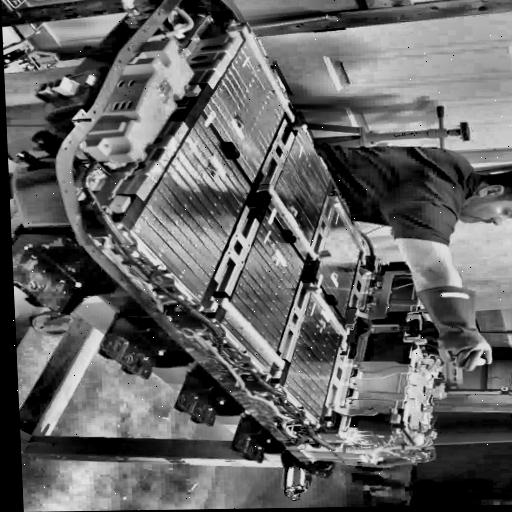battery_module: (127, 115, 249, 303), (220, 209, 304, 372), (204, 33, 288, 184), (264, 126, 327, 261), (283, 285, 344, 420), (317, 199, 364, 318)
busbar: (222, 24, 307, 131), (206, 296, 287, 380), (253, 172, 318, 265), (343, 268, 410, 335), (323, 191, 371, 278), (297, 278, 350, 352), (95, 154, 156, 213), (319, 402, 400, 423)
high_volt_cable: (93, 230, 430, 458)
low_volt_cable: (74, 149, 437, 472)
